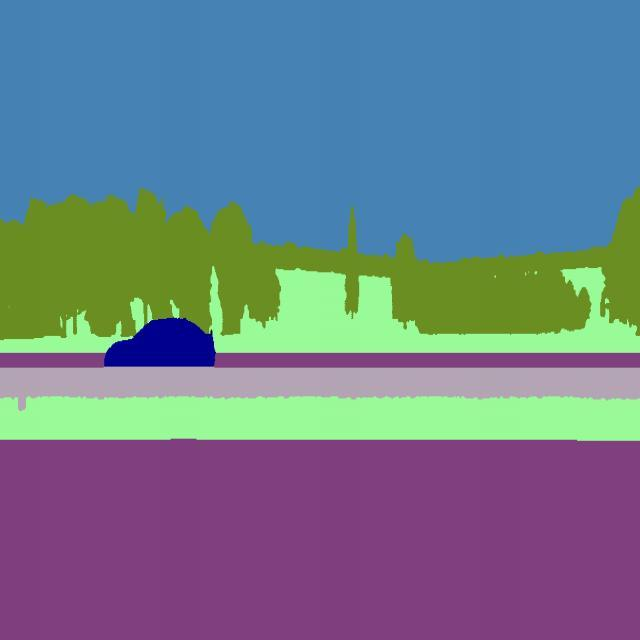safe: (100, 317, 218, 370)
